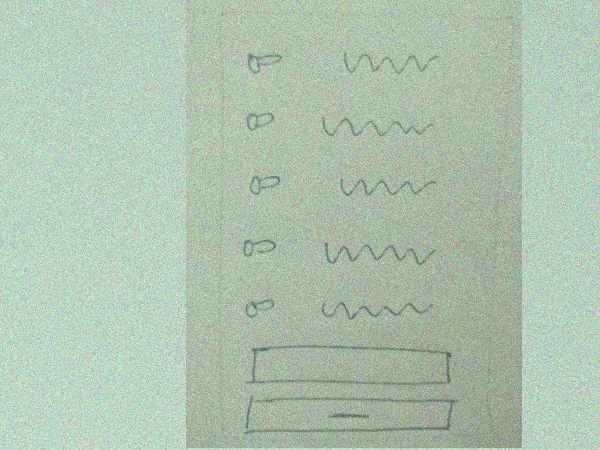button: (241, 392, 460, 440)
switch: (233, 291, 284, 325), (239, 48, 293, 77), (238, 228, 281, 263), (241, 169, 286, 200), (241, 104, 282, 135)
text: (317, 234, 440, 277), (330, 43, 443, 81), (314, 295, 436, 328), (316, 110, 440, 141), (333, 171, 443, 202)
text_input: (241, 341, 458, 388)
